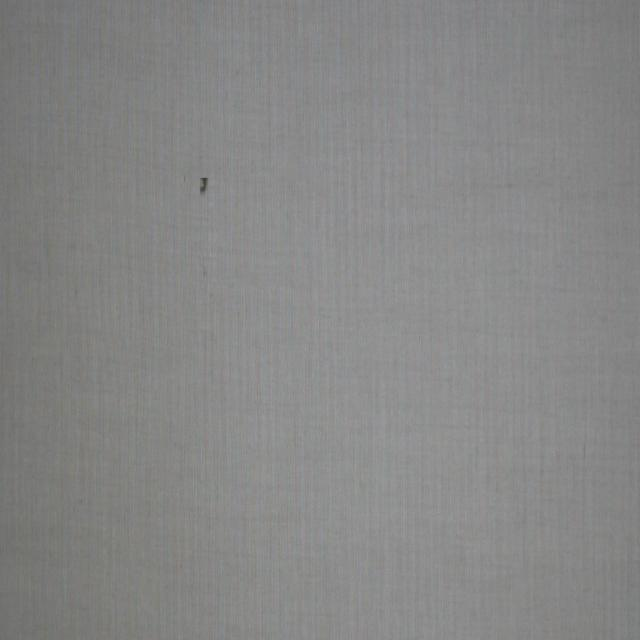dirty: (199, 177, 210, 193)
